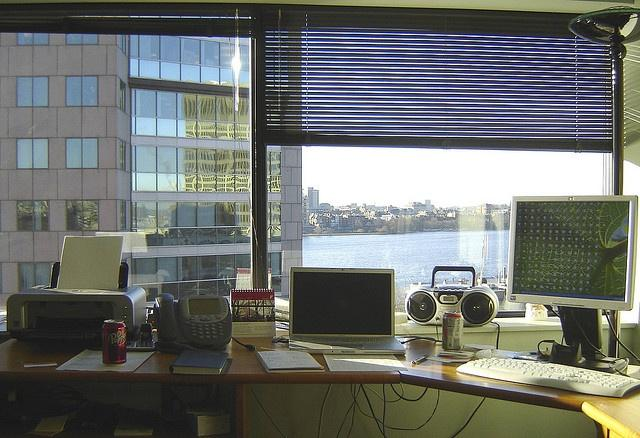AIO PC-Monitor-TV: (504, 193, 638, 312)
Printer: (4, 234, 146, 344)
